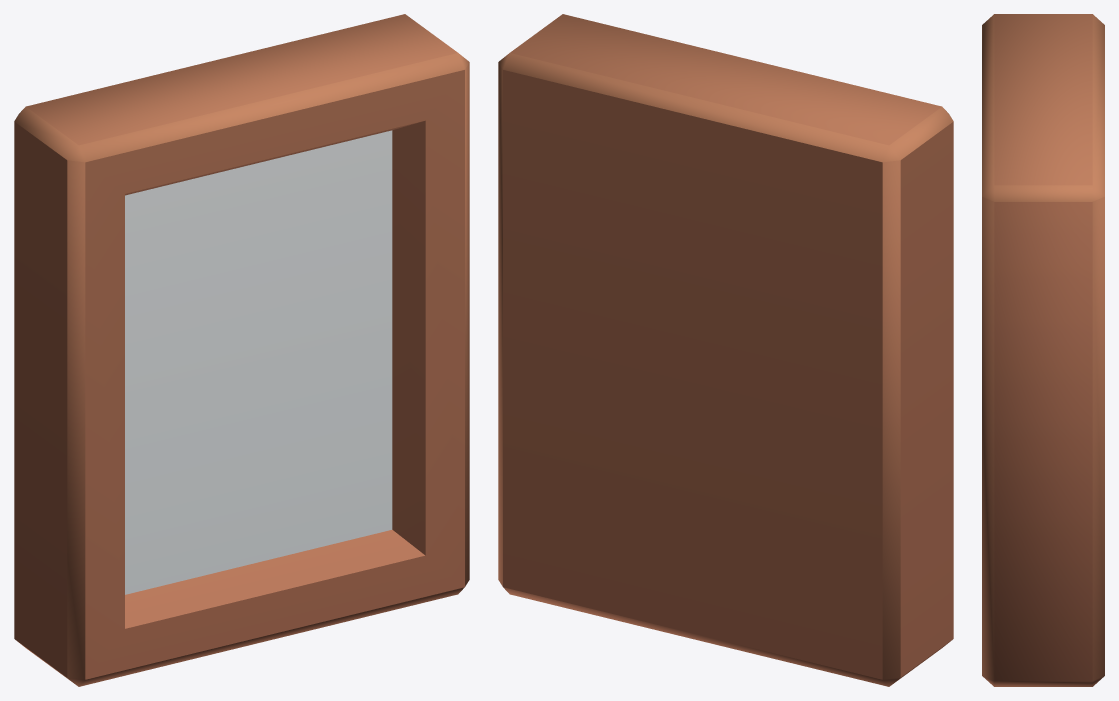
The picture shows the model from 3 angles, left to right: view 1: azimuth 30°, elevation 25°; view 2: azimuth 150°, elevation 25°; view 3: azimuth 270°, elevation 25°; orthographic projection. The views are drawn at different scales.
Visible parts, largest first — view 1: pictureframe_medium; view 2: pictureframe_medium; view 3: pictureframe_medium.
Boxes of the visible parts, <box> form: pictureframe_medium: <box>14,14,469,686</box>; pictureframe_medium: <box>498,14,953,686</box>; pictureframe_medium: <box>982,14,1104,686</box>.
Size of the model in its own units: 0.7 by 0.9 by 0.2.
Materials: 1 (1 with a texture image).
